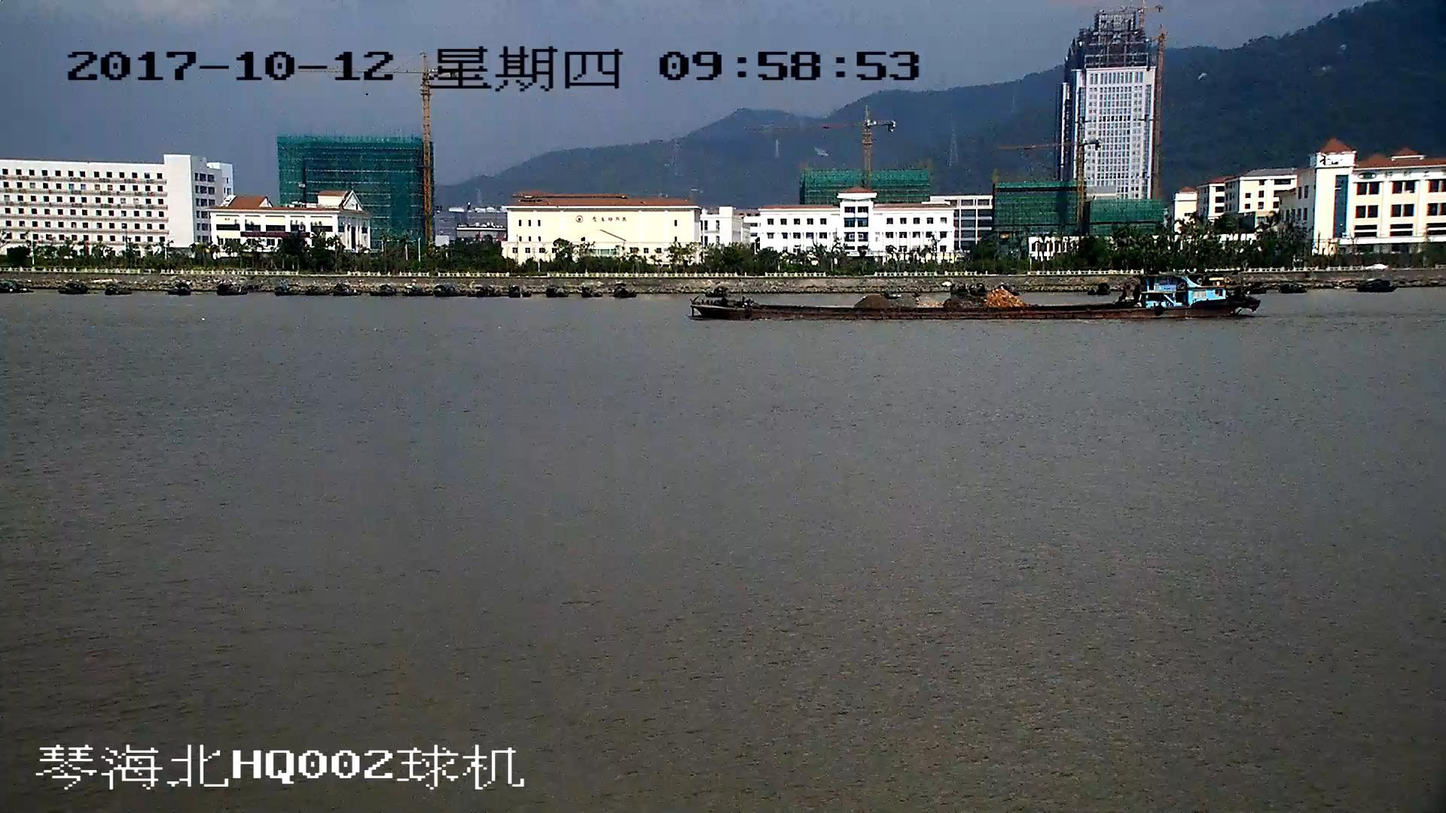ore carrier: (690, 271, 1256, 321)
